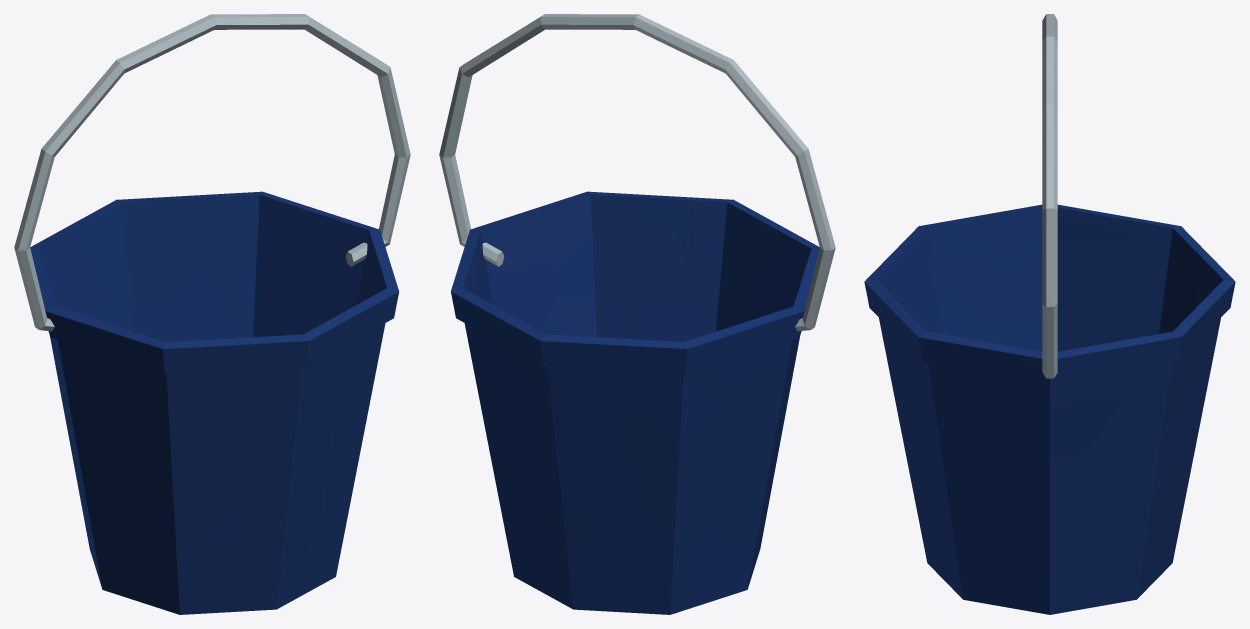
Rendered from mod_bg_Seau.fbx.
3 renders of one model, left to right at view 1: azimuth 30°, elevation 25°; view 2: azimuth 150°, elevation 25°; view 3: azimuth 270°, elevation 25°, orthographic. The views are drawn at different scales.
Parts seen in each view (by area): view 1: seau; view 2: seau; view 3: seau.
Part boxes in pixels (x1,y1,x2,y2): seau: [14, 14, 410, 614]; seau: [439, 14, 835, 614]; seau: [864, 14, 1235, 614].
Bounding box in the file's own units: 80 × 107 × 68.13.
